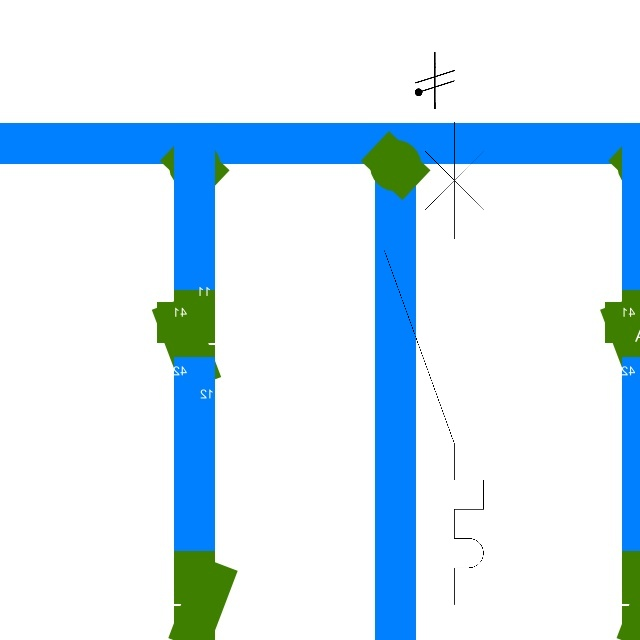interruptor_termomagnetico: (372, 109, 496, 617)
